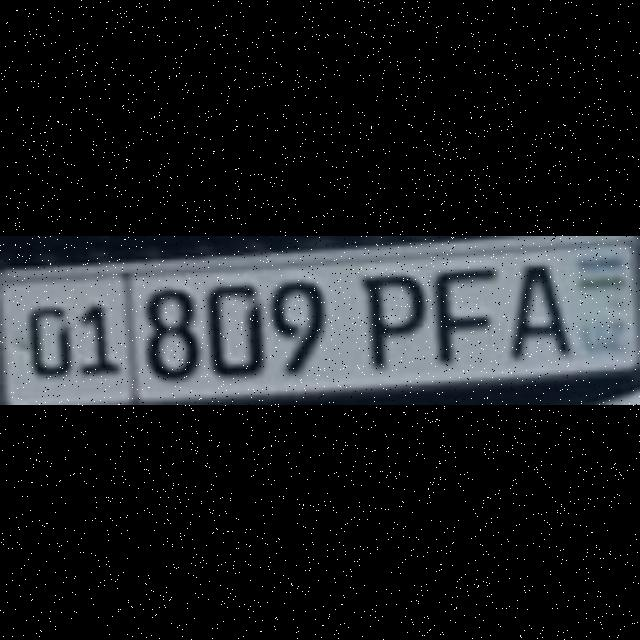0: (203, 280, 257, 370), (24, 302, 64, 373)
1: (75, 300, 112, 374)
8: (139, 282, 193, 373)
9: (268, 280, 322, 370)
A: (504, 258, 566, 354)
F: (431, 266, 492, 360)
P: (358, 272, 419, 364)
